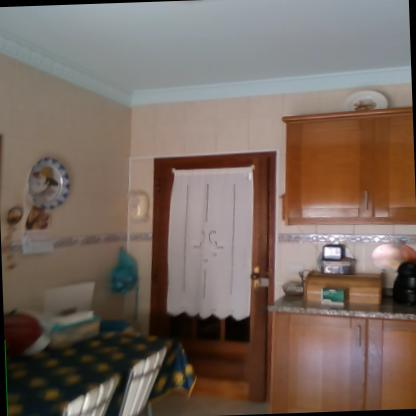closed: (138, 140, 296, 398)
